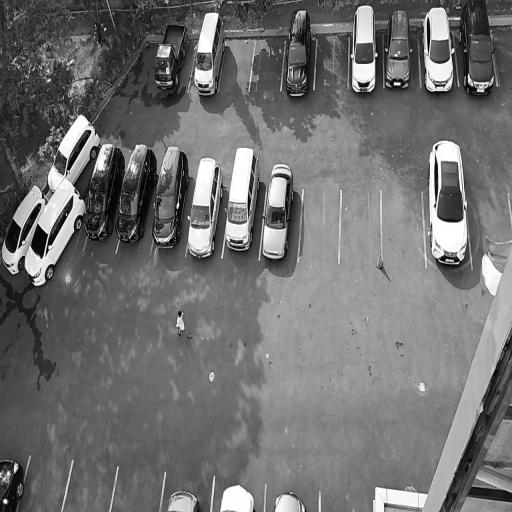Car: (21, 174, 87, 292), (424, 136, 473, 272), (112, 138, 163, 244), (45, 107, 103, 194), (81, 139, 129, 244), (221, 141, 263, 257), (0, 179, 50, 276), (150, 141, 193, 253), (184, 151, 228, 260), (456, 0, 498, 103), (258, 157, 297, 261), (419, 4, 456, 95), (192, 7, 228, 99), (153, 14, 191, 96), (282, 5, 314, 98), (349, 3, 379, 95), (384, 5, 413, 91), (0, 456, 28, 512), (215, 477, 258, 512), (271, 486, 308, 512), (166, 486, 200, 512)
Space Available: (382, 191, 426, 269), (298, 188, 340, 265), (17, 455, 72, 512), (340, 189, 381, 263), (466, 193, 512, 258), (62, 460, 118, 512), (110, 465, 165, 512), (219, 39, 255, 91), (315, 37, 349, 90), (250, 40, 285, 91), (490, 24, 512, 85), (321, 492, 356, 512)
